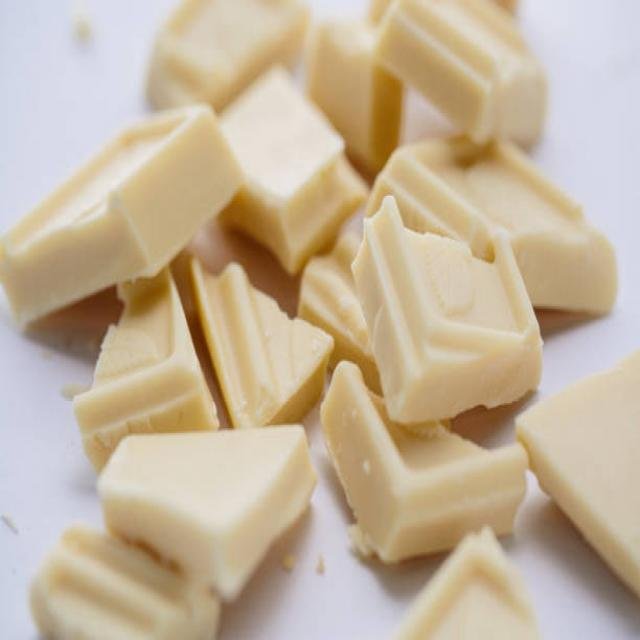Chocolate: (0, 0, 640, 634), (345, 199, 551, 424)
